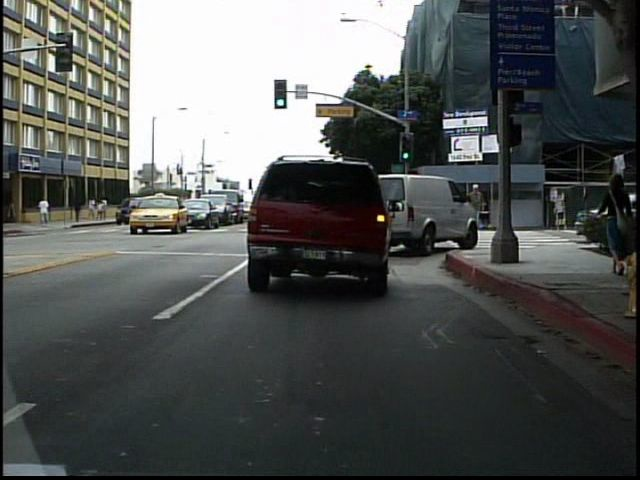person: (596, 168, 639, 283), (469, 180, 488, 227), (38, 195, 56, 229)
